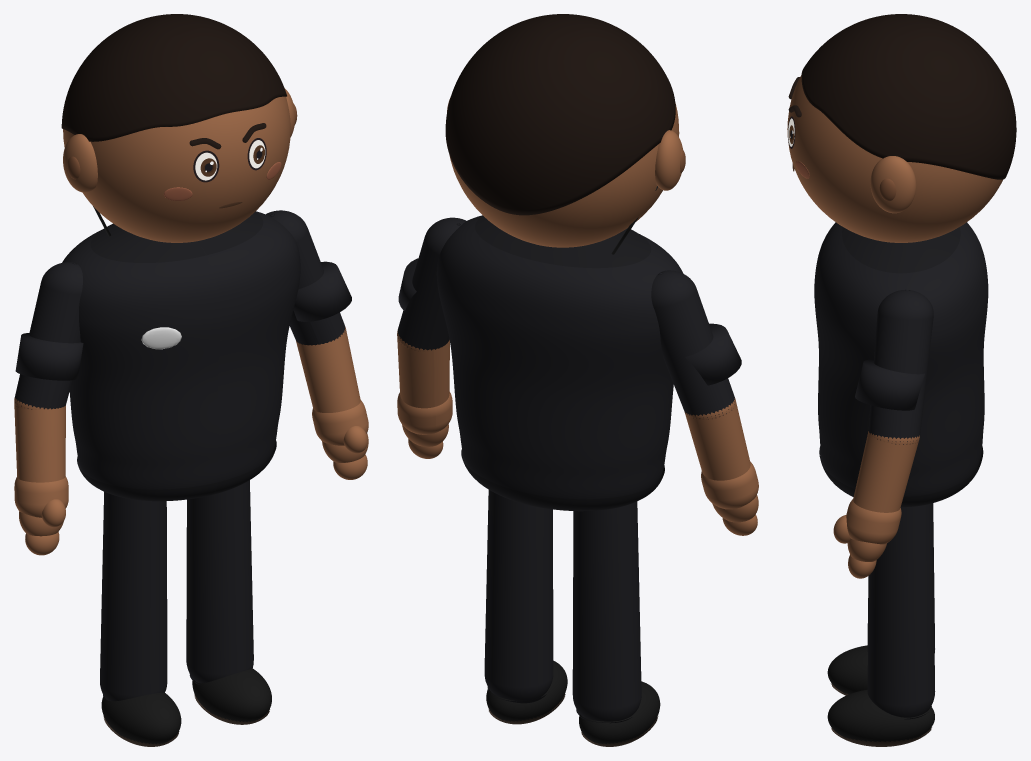
Rendered from portier.glb.
3 renders of one model, left to right at view 1: azimuth 30°, elevation 25°; view 2: azimuth 150°, elevation 25°; view 3: azimuth 270°, elevation 25°, orthographic. The views are drawn at different scales.
Parts seen in each view (by area): view 1: portier_romp, portier_haar, portier_hoofd, portier_been_R, portier_been_L, portier_bovenarm_R, portier_romp_halsboord, portier_onderarm_R, portier_onderarm_L, portier_schoen_R, portier_schoen_L, portier_bovenarm_L (+9 smaller); view 2: portier_romp, portier_haar, portier_been_R, portier_been_L, portier_hoofd, portier_bovenarm_R, portier_bovenarm_L, portier_romp_halsboord, portier_onderarm_R, portier_onderarm_L, portier_romp_boord, portier_schoen_R (+6 smaller); view 3: portier_romp, portier_haar, portier_hoofd, portier_been_L, portier_bovenarm_L, portier_onderarm_L, portier_schoen_L, portier_romp_halsboord, portier_mouwzoom_L, portier_oor_L, portier_manchet_L, portier_schoen_R (+4 smaller).
Part boxes in pixels (box(x1,y1,x2,y2)): portier_romp: box(62, 211, 300, 489); portier_haar: box(61, 14, 286, 141); portier_hoofd: box(63, 96, 290, 242); portier_been_R: box(100, 492, 167, 701); portier_been_L: box(186, 480, 253, 683); portier_bovenarm_R: box(14, 262, 82, 409); portier_romp_halsboord: box(90, 212, 263, 262); portier_onderarm_R: box(14, 401, 65, 482); portier_onderarm_L: box(296, 330, 360, 412); portier_schoen_R: box(101, 692, 181, 744); portier_schoen_L: box(192, 668, 271, 721); portier_bovenarm_L: box(266, 210, 345, 345); portier_romp: box(436, 215, 683, 499); portier_haar: box(445, 14, 675, 215); portier_been_R: box(572, 501, 641, 721); portier_been_L: box(484, 490, 553, 701); portier_hoofd: box(449, 103, 679, 247); portier_bovenarm_R: box(651, 270, 734, 419); portier_bovenarm_L: box(397, 217, 466, 350); portier_romp_halsboord: box(475, 216, 651, 268); portier_onderarm_R: box(684, 401, 750, 480); portier_onderarm_L: box(397, 338, 449, 408); portier_romp_boord: box(461, 449, 664, 511); portier_schoen_R: box(579, 681, 660, 744); portier_romp: box(814, 222, 988, 496); portier_haar: box(801, 14, 1016, 179); portier_hoofd: box(787, 75, 1002, 242); portier_been_L: box(867, 503, 935, 717); portier_bovenarm_L: box(868, 289, 933, 444); portier_onderarm_L: box(853, 431, 918, 512); portier_schoen_L: box(827, 689, 934, 741); portier_romp_halsboord: box(842, 227, 960, 273); portier_mouwzoom_L: box(855, 359, 924, 410); portier_oor_L: box(870, 156, 916, 213); portier_manchet_L: box(846, 499, 901, 544); portier_schoen_R: box(827, 645, 867, 694).
Size of the model in its own units: 0.95 by 1.82 by 0.5432.
